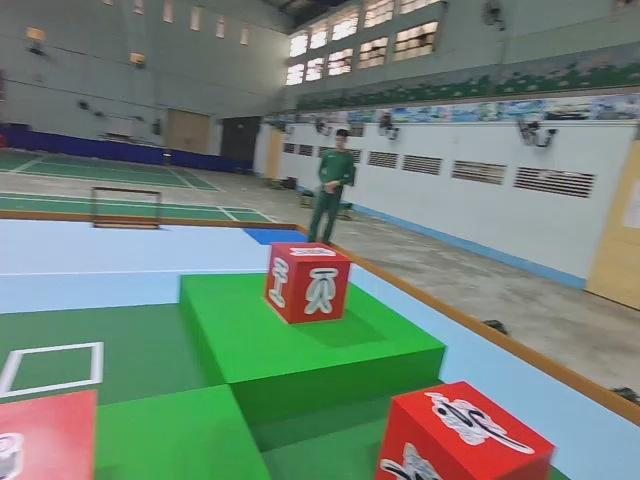R1: (375, 382, 555, 480)
R2 Fake: (266, 241, 351, 335)
